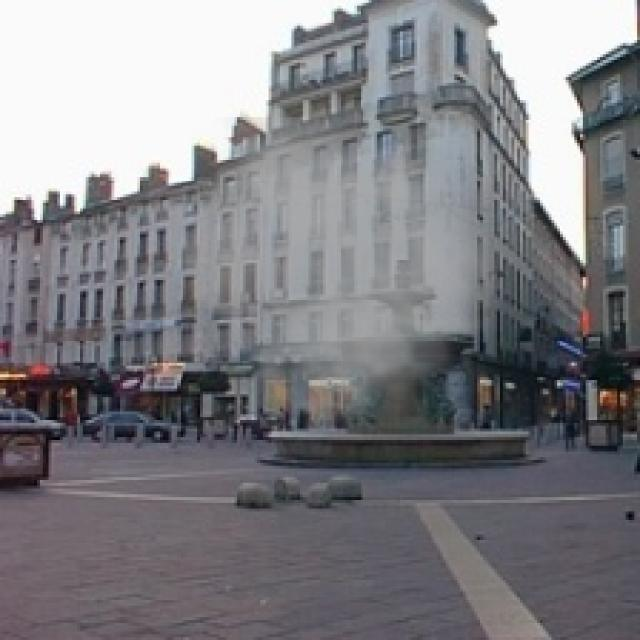Smoke: (157, 117, 523, 460)
